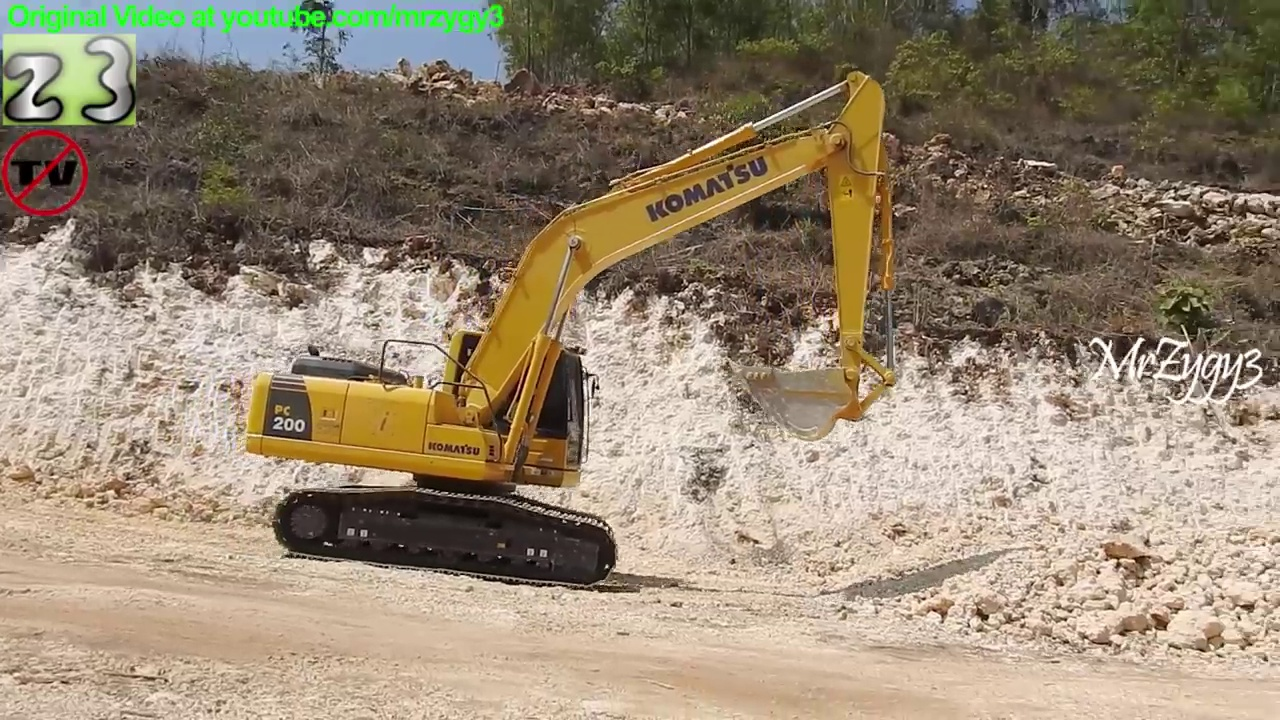excavator: (236, 68, 905, 590)
